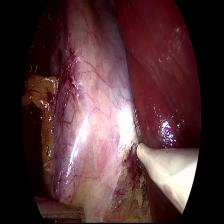Hook: (131, 122, 172, 181)
